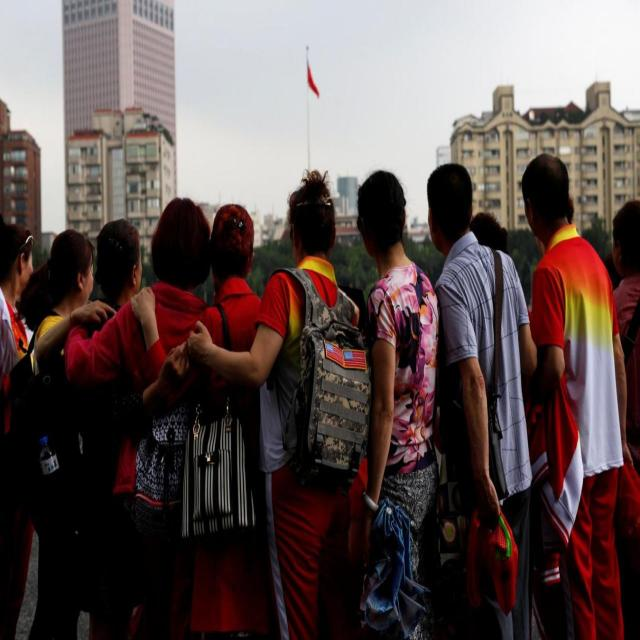body: (186, 167, 372, 639), (63, 192, 215, 639), (129, 202, 268, 634), (424, 159, 541, 639), (519, 148, 629, 640), (70, 219, 188, 635), (354, 169, 441, 581), (17, 228, 97, 640), (0, 216, 38, 639), (607, 196, 640, 639), (470, 205, 510, 252)
